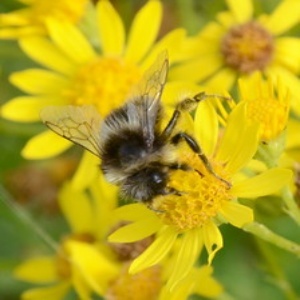bee: (40, 51, 233, 218)
